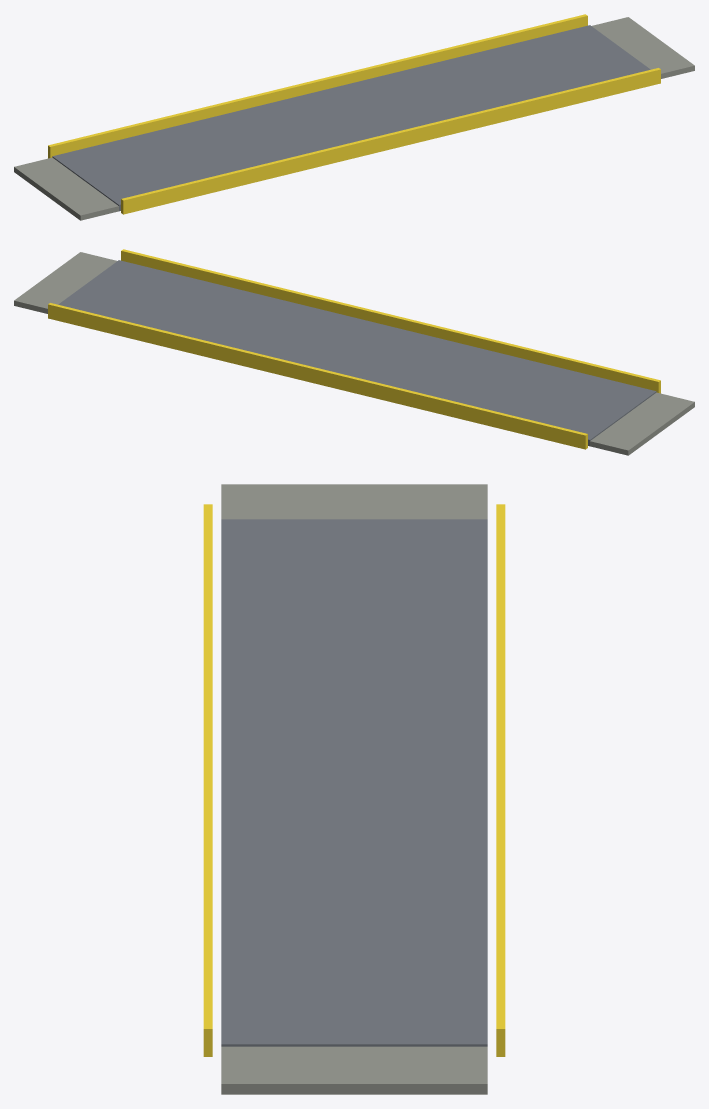
Rendered from site_scale.fbx.
3 renders of one model, top to bottom at view 1: azimuth 30°, elevation 25°; view 2: azimuth 150°, elevation 25°; view 3: azimuth 270°, elevation 25°, orthographic. The views are drawn at different scales.
Parts seen in each view (by area): view 1: a1059/0/site_scale; view 2: a1059/0/site_scale; view 3: a1059/0/site_scale.
Boxes of the visible parts, x1,y1,x2,y2 form: a1059/0/site_scale: [14, 14, 694, 220]; a1059/0/site_scale: [14, 249, 694, 455]; a1059/0/site_scale: [203, 484, 505, 1094].
Size of the model in its own units: 16 by 0.35 by 3.4.
